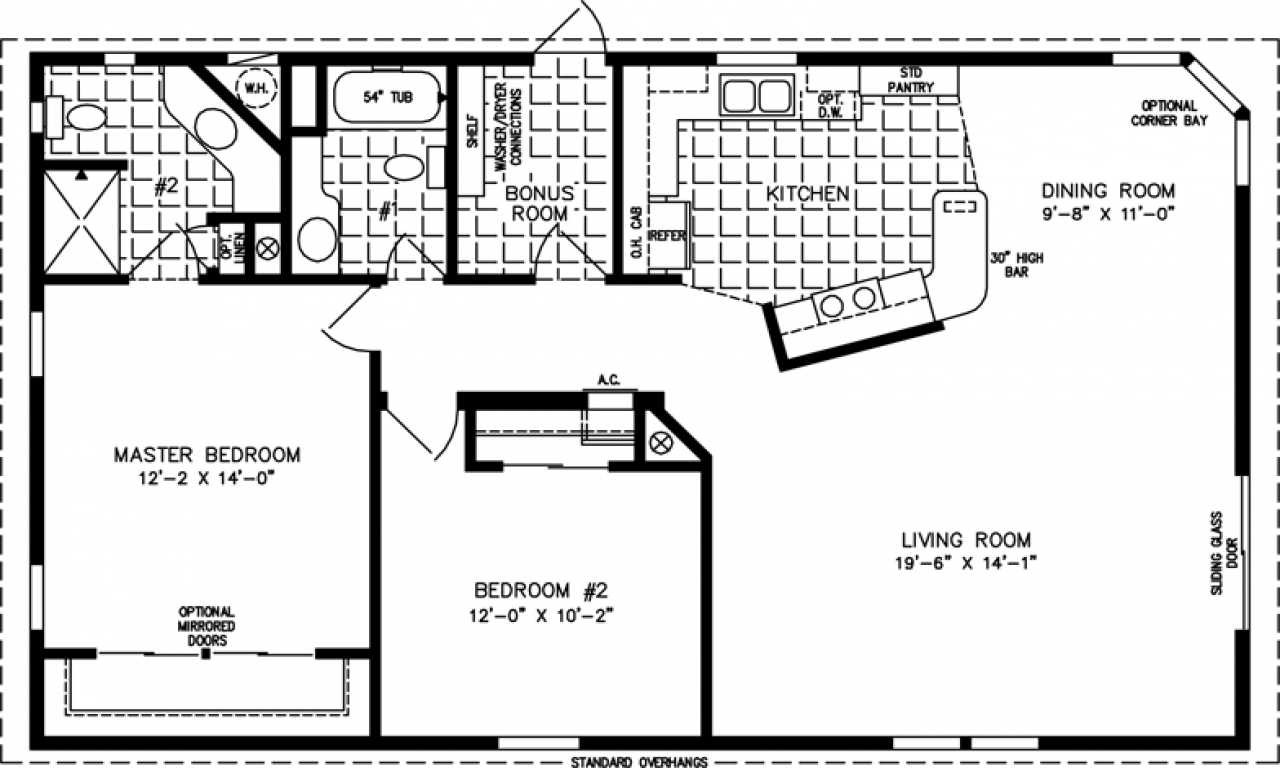wall: (1227, 190, 1256, 472), (800, 46, 1109, 72), (22, 734, 377, 756), (696, 473, 717, 734), (607, 52, 630, 284), (1036, 730, 1251, 754), (25, 377, 48, 562), (282, 43, 451, 67), (455, 389, 584, 418), (25, 130, 44, 318), (371, 392, 381, 737), (705, 733, 890, 751), (446, 54, 460, 288), (201, 269, 392, 285), (281, 55, 293, 273), (377, 733, 496, 754), (581, 733, 702, 752), (27, 631, 46, 748), (443, 269, 535, 293), (602, 48, 715, 67), (602, 458, 711, 477), (131, 48, 226, 68), (764, 309, 790, 373), (27, 47, 105, 68), (35, 272, 130, 289), (629, 388, 650, 464), (309, 62, 330, 138), (35, 155, 126, 171), (367, 348, 386, 412), (40, 643, 96, 663), (314, 643, 372, 660), (463, 408, 479, 463), (461, 458, 504, 476), (30, 51, 43, 101), (650, 387, 671, 415)
